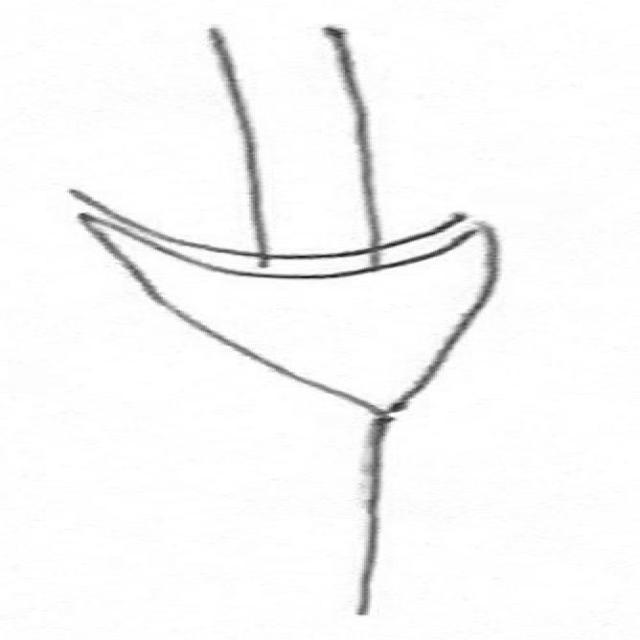XOR: (16, 167, 582, 427)
